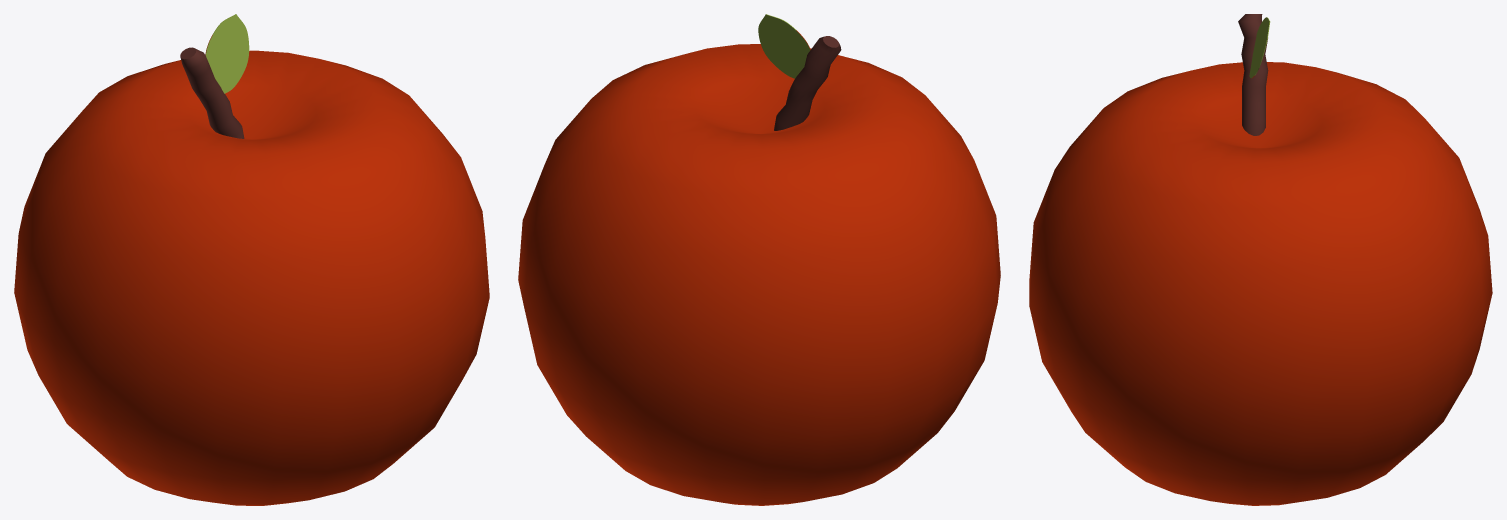
File: P_pomme.fbx
The picture shows the model from 3 angles, left to right: view 1: azimuth 30°, elevation 25°; view 2: azimuth 150°, elevation 25°; view 3: azimuth 270°, elevation 25°; orthographic projection. The views are drawn at different scales.
Parts seen in each view (by area): view 1: Sphere001; view 2: Sphere001; view 3: Sphere001.
Boxes of the visible parts, left/top/right/bottom form: Sphere001: left=14, top=14, right=489, bottom=505; Sphere001: left=518, top=14, right=1000, bottom=505; Sphere001: left=1029, top=14, right=1492, bottom=505.
Bounding box in the file's own units: 6.64 × 6.94 × 6.62.
